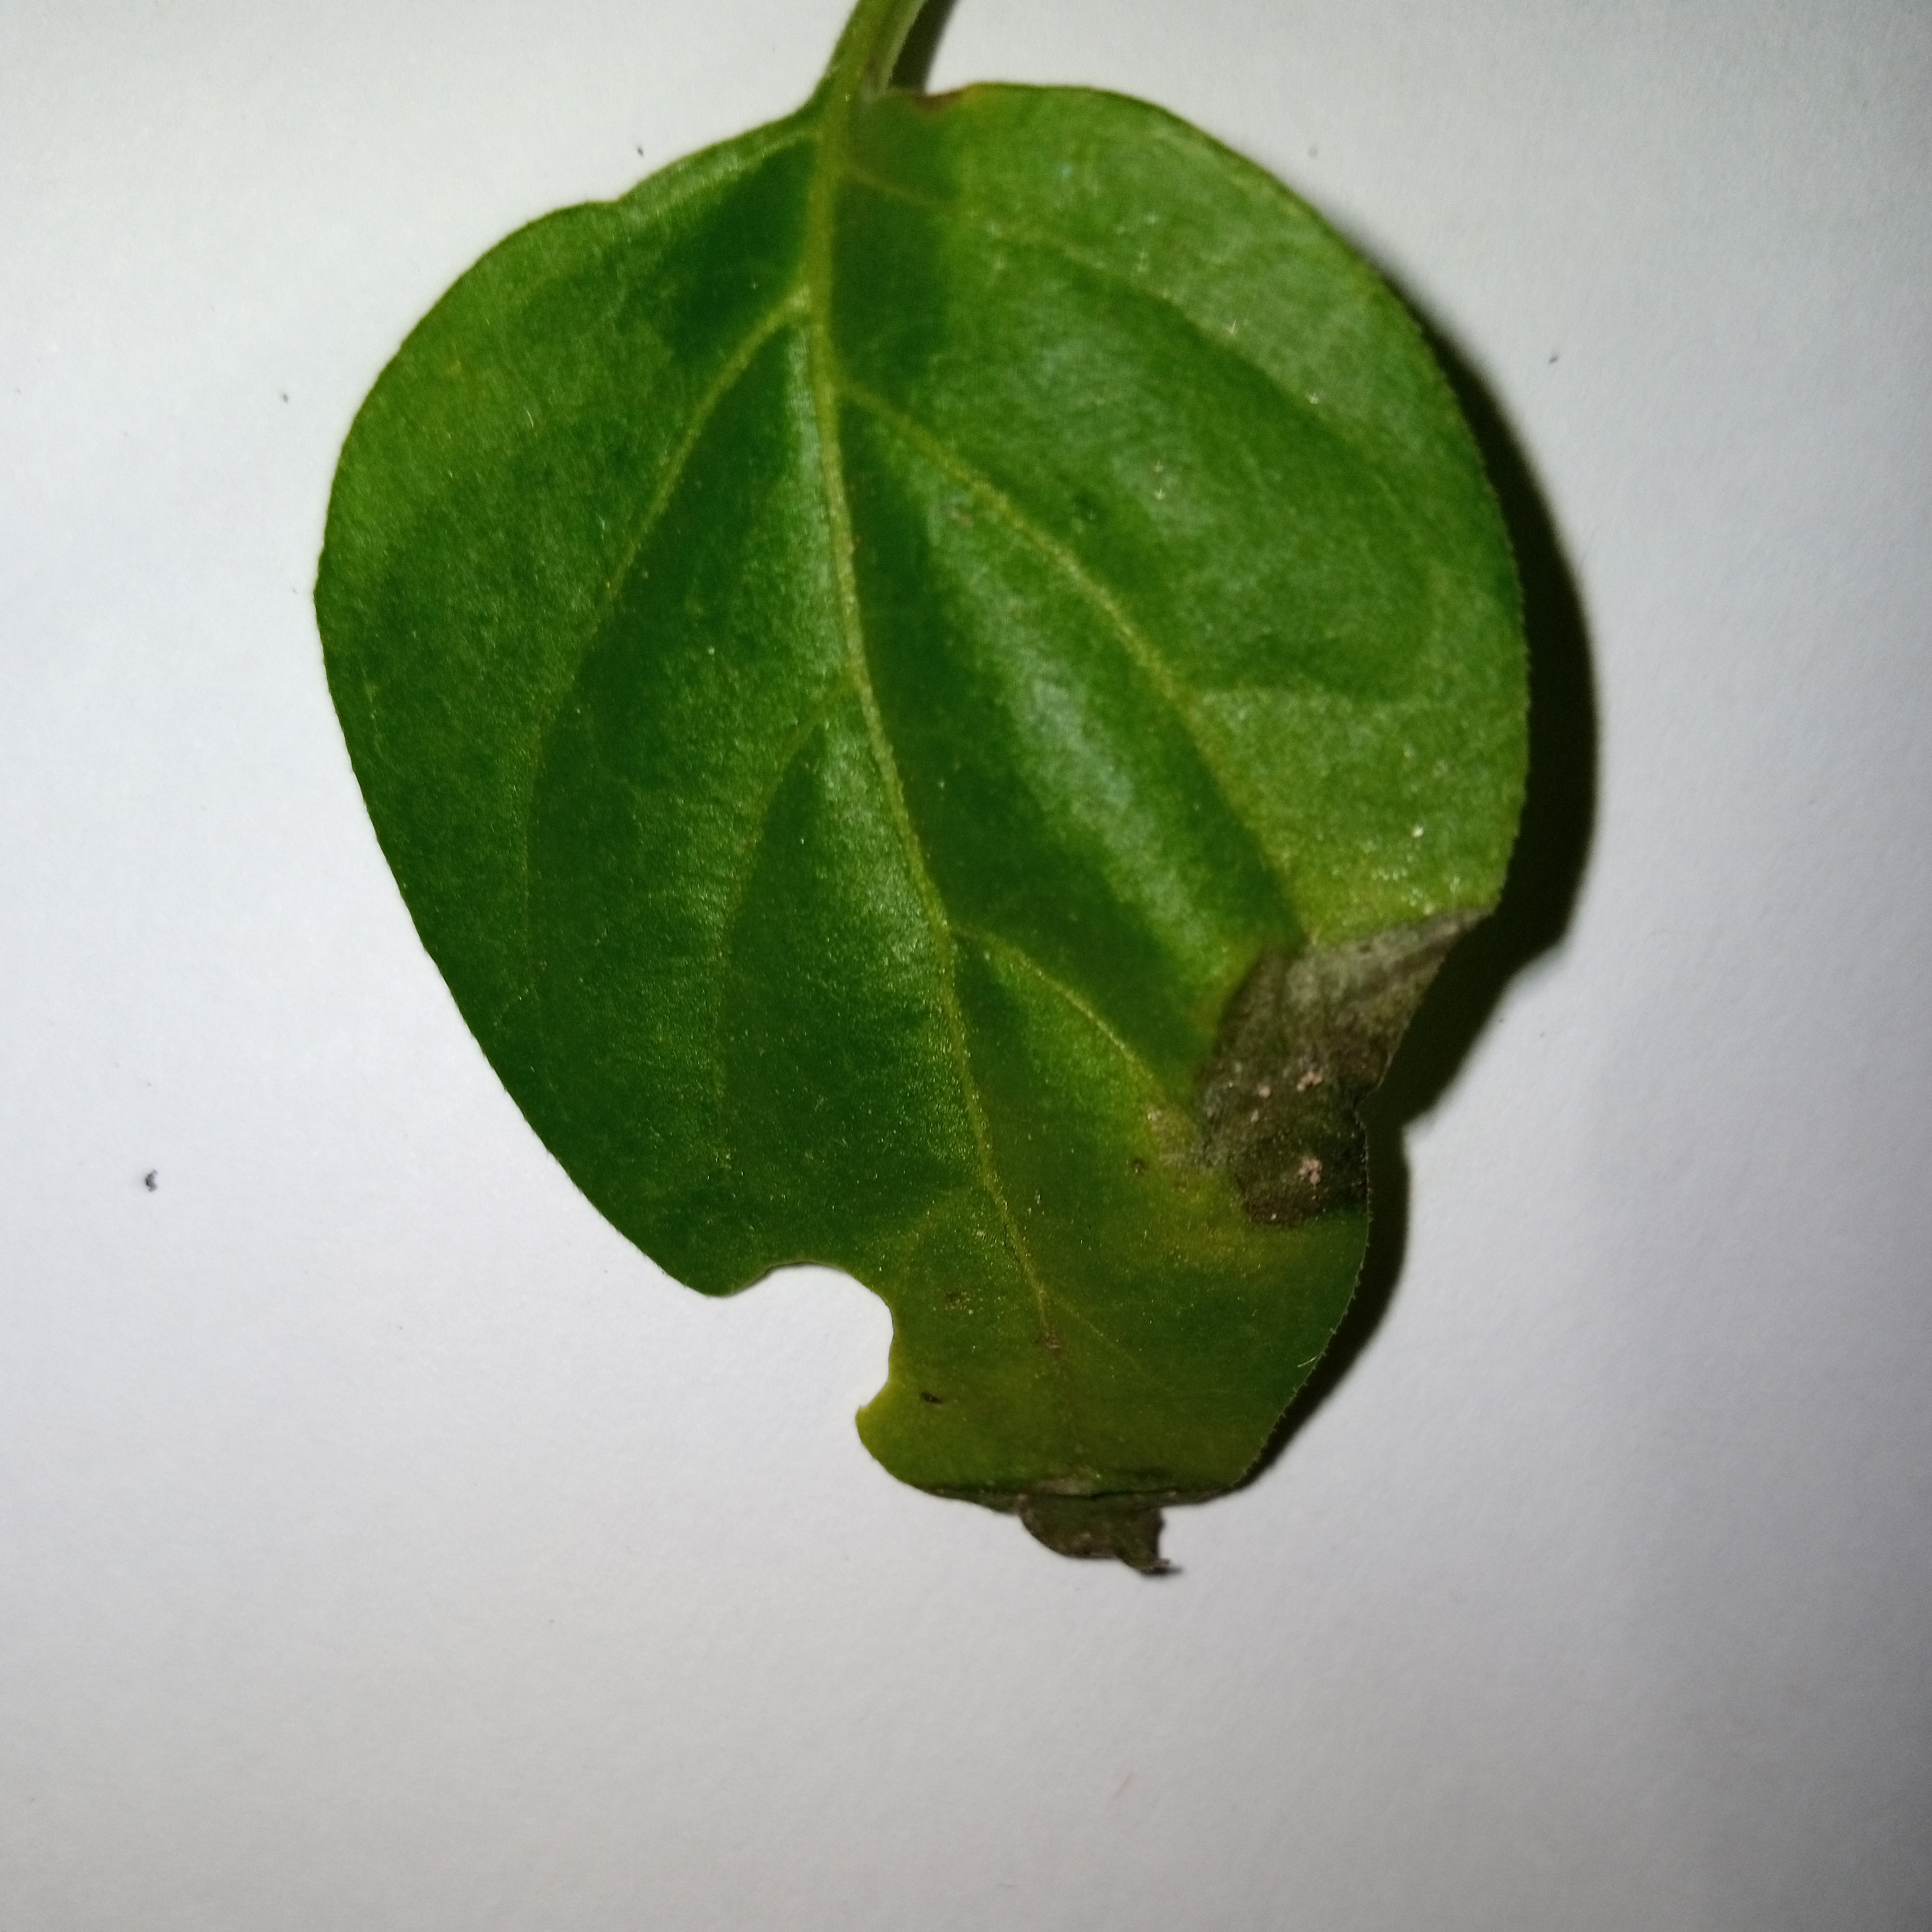Leaf: (212, 69, 1647, 1695)
